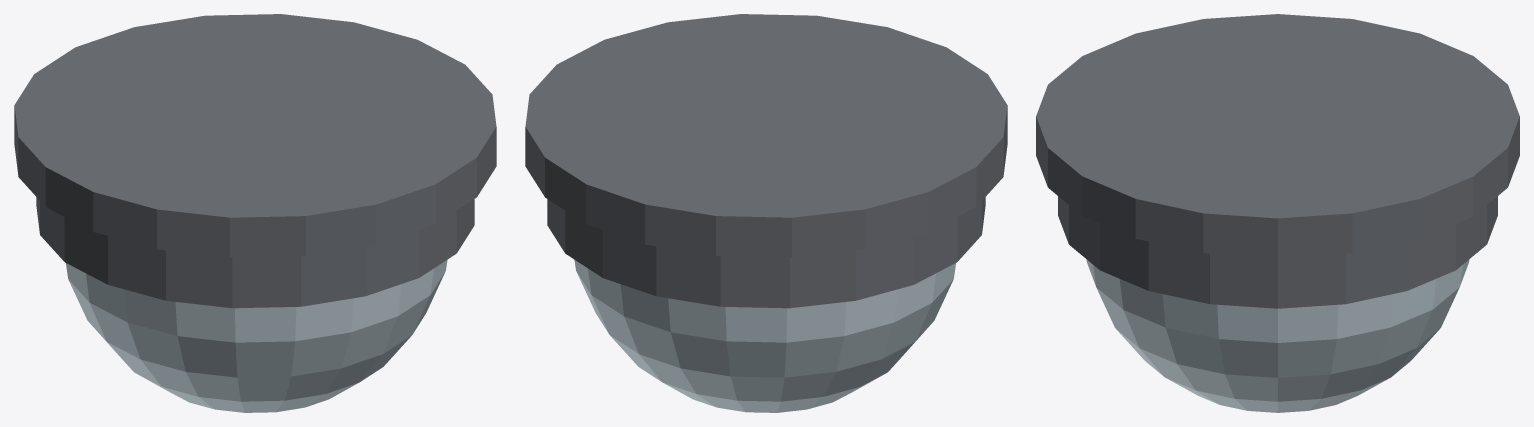
Rendered from bank-vault-heist-kit-camera-dome-089b4e3f__25082.glb.
3 views of the same model, side by side, from view 1: azimuth 30°, elevation 25°; view 2: azimuth 150°, elevation 25°; view 3: azimuth 270°, elevation 25° (orthographic).
Parts seen in each view (by area): view 1: camera-dome; view 2: camera-dome; view 3: camera-dome.
Part boxes in pixels (x1=…): camera-dome: x1=14, y1=14, x2=496, y2=412; camera-dome: x1=525, y1=14, x2=1007, y2=412; camera-dome: x1=1036, y1=14, x2=1519, y2=412.
Size of the model in its own units: 0.22 by 0.14 by 0.22.
